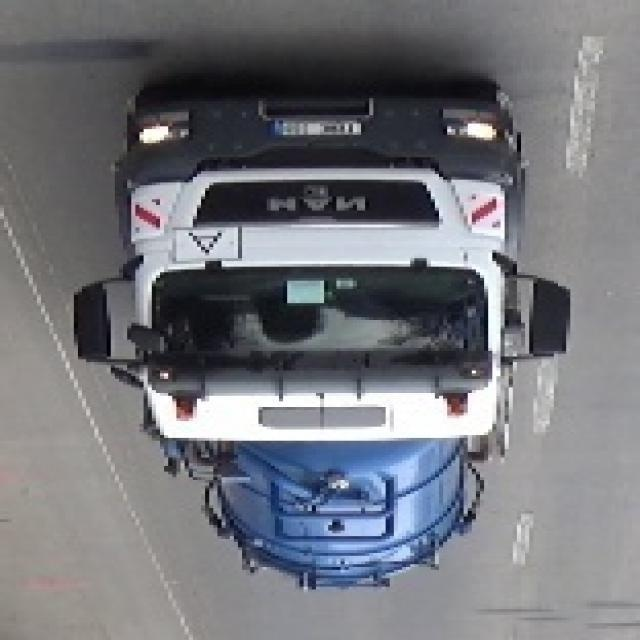Truck: (74, 84, 566, 595)
